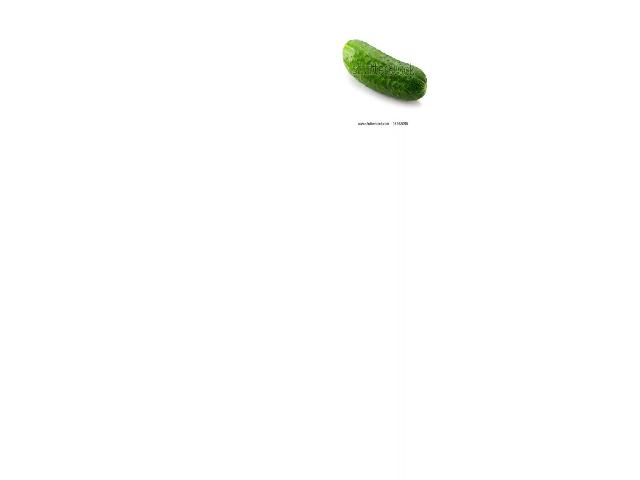cucumber: (343, 39, 427, 101)
